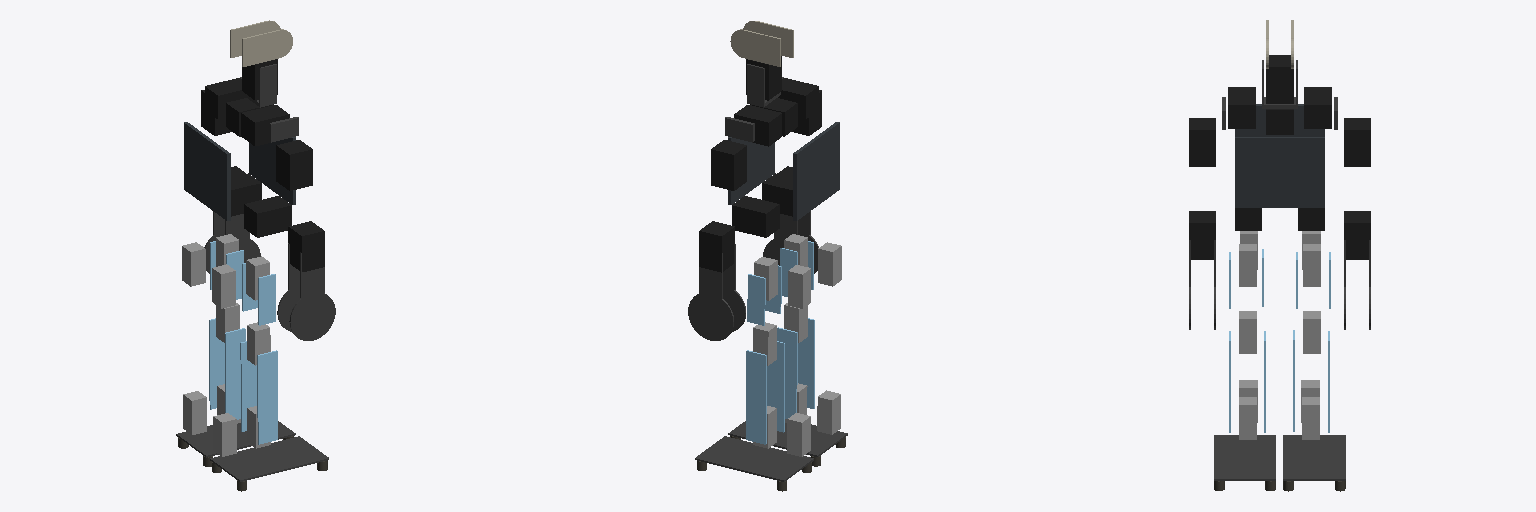
--- Facts derived from the render (not from the file) ---
3 views of the same robot in one strip: view 1: azimuth 30°, elevation 25°; view 2: azimuth 150°, elevation 25°; view 3: azimuth 270°, elevation 25° (orthographic).
Model onshape with 26 links and 25 joints (20 revolute, 5 fixed), rooted at torso, posed all joints at 0.
Links seen in each view (by area): view 1: torso, radius_v2, right_foot_asm, tibia_right_full, head__field_of_view_false, tibia_left_full, thigh_horn_right, mx106_with_u_l_2, right_humerus, mx106_with_u_r, mx106_with_u_r_2, thigh_horn_left (+6 smaller); view 2: torso, radius_v2_2, left_foot_asm, tibia_left_full, head__field_of_view_false, tibia_right_full, thigh_horn_left, mx106_with_u_r, left_humerus, mx106_with_u_l_2, mx106_with_u_l, thigh_horn_right (+5 smaller); view 3: torso, left_foot_asm, right_foot_asm, radius_v2, radius_v2_2, head__field_of_view_false, right_humerus, left_humerus, mx106_with_u_l, mx106_with_u_r_2, mx106_with_u_r, mx106_with_u_l_2 (+2 smaller).
Link boxes in pixels (x1=…): torso: x1=184, y1=78, x2=295, y2=237; radius_v2: x1=277, y1=221, x2=335, y2=340; right_foot_asm: x1=210, y1=436, x2=328, y2=491; tibia_right_full: x1=240, y1=341, x2=277, y2=444; head__field_of_view_false: x1=230, y1=20, x2=292, y2=100; tibia_left_full: x1=209, y1=318, x2=245, y2=419; thigh_horn_right: x1=242, y1=263, x2=275, y2=365; mx106_with_u_l_2: x1=212, y1=256, x2=269, y2=308; right_humerus: x1=276, y1=140, x2=312, y2=190; mx106_with_u_r: x1=182, y1=234, x2=238, y2=286; mx106_with_u_r_2: x1=213, y1=406, x2=270, y2=456; thigh_horn_left: x1=210, y1=241, x2=243, y2=342; torso: x1=728, y1=78, x2=839, y2=237; radius_v2_2: x1=688, y1=221, x2=745, y2=340; left_foot_asm: x1=695, y1=436, x2=813, y2=491; tibia_left_full: x1=746, y1=341, x2=784, y2=444; head__field_of_view_false: x1=730, y1=21, x2=793, y2=100; tibia_right_full: x1=777, y1=318, x2=814, y2=418; thigh_horn_left: x1=747, y1=265, x2=781, y2=365; mx106_with_u_r: x1=754, y1=257, x2=810, y2=308; left_humerus: x1=711, y1=140, x2=746, y2=190; mx106_with_u_l_2: x1=784, y1=234, x2=841, y2=286; mx106_with_u_l: x1=753, y1=406, x2=810, y2=456; thigh_horn_right: x1=780, y1=241, x2=813, y2=342; torso: x1=1228, y1=87, x2=1331, y2=230; left_foot_asm: x1=1283, y1=435, x2=1345, y2=491; right_foot_asm: x1=1214, y1=435, x2=1275, y2=490; radius_v2: x1=1189, y1=211, x2=1215, y2=329; radius_v2_2: x1=1344, y1=211, x2=1370, y2=329; head__field_of_view_false: x1=1266, y1=20, x2=1293, y2=103; right_humerus: x1=1189, y1=118, x2=1215, y2=166; left_humerus: x1=1344, y1=118, x2=1370, y2=166; mx106_with_u_l: x1=1301, y1=380, x2=1319, y2=439; mx106_with_u_r_2: x1=1239, y1=380, x2=1257, y2=439; mx106_with_u_r: x1=1302, y1=231, x2=1320, y2=286; mx106_with_u_l_2: x1=1239, y1=231, x2=1257, y2=286.
Size in the robot's own frame: 0.1688 by 0.27 by 0.7197 metres.
Geometry: primitives only (box / cylinder / sphere), no mesh files.

robot.urdf — onshape:
<robot name="onshape">
<link name="torso">
<!-- Shapes for x_plate -->
<collision>
<origin xyz="0.057869 3.81527e-15 0.0595" rpy="1.5708 -3.71254e-15 1.5708" />
<geometry>
<box size="0.133 0.113 0.006" />
</geometry>
</collision>
<!-- Shapes for x_plate -->
<visual>
<origin xyz="0.057869 3.81527e-15 0.0595" rpy="1.5708 -3.71254e-15 1.5708" />
<geometry>
<box size="0.133 0.113 0.006" />
</geometry>
<material name="x_plate_material">
<color rgba="0.262745 0.282353 0.301961 1.0"/>
</material>
</visual>
<!-- Shapes for mx-64at_ar -->
<collision>
<origin xyz="0.023419 -0.0464 -0.017" rpy="-3.14159 2.03946e-15 -1.5708" />
<geometry>
<box size="0.0402 0.0611 0.041" />
</geometry>
</collision>
<!-- Shapes for mx-64at_ar -->
<visual>
<origin xyz="0.023419 -0.0464 -0.017" rpy="-3.14159 2.03946e-15 -1.5708" />
<geometry>
<box size="0.0402 0.0611 0.041" />
</geometry>
<material name="mx-64at_ar_material">
<color rgba="0.168627 0.168627 0.168627 1.0"/>
</material>
</visual>
<!-- Shapes for mx-64at_ar -->
<collision>
<origin xyz="0.013319 0.056 0.143" rpy="-1.5708 -1.5708 0" />
<geometry>
<box size="0.0402 0.0611 0.041" />
</geometry>
</collision>
<!-- Shapes for mx-64at_ar -->
<visual>
<origin xyz="0.013319 0.056 0.143" rpy="-1.5708 -1.5708 0" />
<geometry>
<box size="0.0402 0.0611 0.041" />
</geometry>
<material name="mx-64at_ar_material">
<color rgba="0.168627 0.168627 0.168627 1.0"/>
</material>
</visual>
<!-- Shapes for x_plate -->
<collision>
<origin xyz="-0.057131 7.78087e-15 0.0595" rpy="1.5708 -1.21571e-15 1.5708" />
<geometry>
<box size="0.133 0.113 0.006" />
</geometry>
</collision>
<!-- Shapes for x_plate -->
<visual>
<origin xyz="-0.057131 7.78087e-15 0.0595" rpy="1.5708 -1.21571e-15 1.5708" />
<geometry>
<box size="0.133 0.113 0.006" />
</geometry>
<material name="x_plate_material">
<color rgba="0.262745 0.282353 0.301961 1.0"/>
</material>
</visual>
<!-- Shapes for mx-64at_ar -->
<collision>
<origin xyz="0.023419 0.0464 -0.017" rpy="-3.14159 2.02561e-15 -1.5708" />
<geometry>
<box size="0.0402 0.0611 0.041" />
</geometry>
</collision>
<!-- Shapes for mx-64at_ar -->
<visual>
<origin xyz="0.023419 0.0464 -0.017" rpy="-3.14159 2.02561e-15 -1.5708" />
<geometry>
<box size="0.0402 0.0611 0.041" />
</geometry>
<material name="mx-64at_ar_material">
<color rgba="0.168627 0.168627 0.168627 1.0"/>
</material>
</visual>
<!-- Shapes for mx-64at_ar -->
<collision>
<origin xyz="0.018319 5.20694e-15 0.136" rpy="4.02456e-16 1.06347e-14 -1.5708" />
<geometry>
<box size="0.0402 0.0611 0.041" />
</geometry>
</collision>
<!-- Shapes for mx-64at_ar -->
<visual>
<origin xyz="0.018319 5.20694e-15 0.136" rpy="4.02456e-16 1.06347e-14 -1.5708" />
<geometry>
<box size="0.0402 0.0611 0.041" />
</geometry>
<material name="mx-64at_ar_material">
<color rgba="0.168627 0.168627 0.168627 1.0"/>
</material>
</visual>
<!-- Shapes for mx-64at_ar -->
<collision>
<origin xyz="0.013319 -0.056 0.143" rpy="1.5708 1.5708 0" />
<geometry>
<box size="0.0402 0.0611 0.041" />
</geometry>
</collision>
<!-- Shapes for mx-64at_ar -->
<visual>
<origin xyz="0.013319 -0.056 0.143" rpy="1.5708 1.5708 0" />
<geometry>
<box size="0.0402 0.0611 0.041" />
</geometry>
<material name="mx-64at_ar_material">
<color rgba="0.168627 0.168627 0.168627 1.0"/>
</material>
</visual>
<inertial>
<origin xyz="-0.00999148 0.0067075 0.0847028" rpy="0 0 0"/>
<mass value="1.74256" />
<inertia ixx="0.0256992" ixy="0.00212058"  ixz="0.00444597" iyy="0.0280135" iyz="-0.00204502" izz="0.0103838" />
</inertial>
</link>

<link name="head_base">
<inertial>
<origin xyz="0 0 0" rpy="0 0 0" />
<mass value="1e-9" />
<inertia ixx="0" ixy="0" ixz="0" iyy="0" iyz="0" izz="0" />
</inertial>
</link>
<joint name="head_base_frame" type="fixed">
<origin xyz="0.035869 2.87859e-15 0.1595" rpy="3.79641e-14 -9.95037e-15 -1.04223e-13" />
<parent link="torso" />
<child link="head_base" />
<axis xyz="0 0 0"/>
</joint>

<link name="trunk">
<inertial>
<origin xyz="0 0 0" rpy="0 0 0" />
<mass value="1e-9" />
<inertia ixx="0" ixy="0" ixz="0" iyy="0" iyz="0" izz="0" />
</inertial>
</link>
<joint name="trunk_frame" type="fixed">
<origin xyz="0.00586803 -3.58583e-15 -0.1015" rpy="-2.22624e-15 4.13778e-27 -1.14065e-13" />
<parent link="torso" />
<child link="trunk" />
<axis xyz="0 0 0"/>
</joint>

<link name="u_shoulder">
<!-- Shapes for u_base_64 -->
<collision>
<origin xyz="-2.13528e-33 -3.58215e-33 -0.003125" rpy="-1.13995e-30 1.27353e-30 1.29422e-30" />
<geometry>
<box size="0.049 0.03 0.00625" />
</geometry>
</collision>
<!-- Shapes for u_base_64 -->
<visual>
<origin xyz="-2.13528e-33 -3.58215e-33 -0.003125" rpy="-1.13995e-30 1.27353e-30 1.29422e-30" />
<geometry>
<box size="0.049 0.03 0.00625" />
</geometry>
<material name="u_base_64_material">
<color rgba="0.301961 0.301961 0.301961 1.0"/>
</material>
</visual>
<inertial>
<origin xyz="-1.42778e-15 -0.00566234 -0.0159676" rpy="0 0 0"/>
<mass value="0.0570101" />
<inertia ixx="2.21758e-05" ixy="-2.10263e-19"  ixz="9.28639e-19" iyy="4.03314e-05" iyz="-6.10703e-06" izz="3.58629e-05" />
</inertial>
</link>

<link name="right_humerus">
<!-- Shapes for mx-64at_ar -->
<collision>
<origin xyz="1.54658e-17 -0.01755 -0.0235" rpy="-8.07063e-16 -5.18375e-30 -4.64906e-16" />
<geometry>
<box size="0.0402 0.0611 0.041" />
</geometry>
</collision>
<!-- Shapes for mx-64at_ar -->
<visual>
<origin xyz="1.54658e-17 -0.01755 -0.0235" rpy="-8.07063e-16 -5.18375e-30 -4.64906e-16" />
<geometry>
<box size="0.0402 0.0611 0.041" />
</geometry>
<material name="mx-64at_ar_material">
<color rgba="0.168627 0.168627 0.168627 1.0"/>
</material>
</visual>
<inertial>
<origin xyz="-0.0219502 0.0714677 -0.0108756" rpy="0 0 0"/>
<mass value="0.111948" />
<inertia ixx="0.0132959" ixy="0.00182099"  ixz="0.000176202" iyy="0.000422449" iyz="-0.00129199" izz="0.0134217" />
</inertial>
</link>

<link name="radius_v2">
<!-- Shapes for hand -->
<collision>
<origin xyz="-2.76384e-17 0.1276 0.042" rpy="3.14159 4.25254e-16 1.5708" />
<geometry>
<cylinder length="0.003" radius="0.04" />
</geometry>
</collision>
<collision>
<origin xyz="-1.12905e-17 0.0539756 0.042" rpy="3.14159 4.25254e-16 1.5708" />
<geometry>
<box size="0.0775512 0.0412 0.003" />
</geometry>
</collision>
<!-- Shapes for hand -->
<visual>
<origin xyz="-2.76384e-17 0.1276 0.042" rpy="3.14159 4.25254e-16 1.5708" />
<geometry>
<cylinder length="0.003" radius="0.04" />
</geometry>
<material name="hand_material">
<color rgba="0.301961 0.301961 0.301961 1.0"/>
</material>
</visual>
<visual>
<origin xyz="-1.12905e-17 0.0539756 0.042" rpy="3.14159 4.25254e-16 1.5708" />
<geometry>
<box size="0.0775512 0.0412 0.003" />
</geometry>
<material name="hand_material">
<color rgba="0.301961 0.301961 0.301961 1.0"/>
</material>
</visual>
<!-- Shapes for hand -->
<collision>
<origin xyz="-1.24846e-16 0.1276 0.005" rpy="3.14159 4.25254e-16 1.5708" />
<geometry>
<cylinder length="0.003" radius="0.04" />
</geometry>
</collision>
<collision>
<origin xyz="-1.28933e-16 0.0539756 0.005" rpy="3.14159 4.25254e-16 1.5708" />
<geometry>
<box size="0.0775512 0.0412 0.003" />
</geometry>
</collision>
<!-- Shapes for hand -->
<visual>
<origin xyz="-1.24846e-16 0.1276 0.005" rpy="3.14159 4.25254e-16 1.5708" />
<geometry>
<cylinder length="0.003" radius="0.04" />
</geometry>
<material name="hand_material">
<color rgba="0.301961 0.301961 0.301961 1.0"/>
</material>
</visual>
<visual>
<origin xyz="-1.28933e-16 0.0539756 0.005" rpy="3.14159 4.25254e-16 1.5708" />
<geometry>
<box size="0.0775512 0.0412 0.003" />
</geometry>
<material name="hand_material">
<color rgba="0.301961 0.301961 0.301961 1.0"/>
</material>
</visual>
<!-- Shapes for mx-64at_ar -->
<collision>
<origin xyz="-2.92266e-18 0.01755 0.0235" rpy="3.14159 -1.27021e-30 5.55112e-17" />
<geometry>
<box size="0.0402 0.0611 0.041" />
</geometry>
</collision>
<!-- Shapes for mx-64at_ar -->
<visual>
<origin xyz="-2.92266e-18 0.01755 0.0235" rpy="3.14159 -1.27021e-30 5.55112e-17" />
<geometry>
<box size="0.0402 0.0611 0.041" />
</geometry>
<material name="mx-64at_ar_material">
<color rgba="0.168627 0.168627 0.168627 1.0"/>
</material>
</visual>
<inertial>
<origin xyz="-0.0615379 -0.10265 0.0219354" rpy="0 0 0"/>
<mass value="0.120619" />
<inertia ixx="0.0207428" ixy="-0.00638349"  ixz="-2.1871e-05" iyy="0.00208063" iyz="-7.96366e-05" izz="0.022758" />
</inertial>
</link>

<joint name="right_elbow" type="revolute">
<origin xyz="-0.0235 -0.142 -0.0025" rpy="3.14159 -1.5708 0" />
<parent link="right_humerus" />
<child link="radius_v2" />
<axis xyz="0 0 1"/>
<limit effort="10" velocity="6" lower="-2.79253" upper="-0"/>
<joint_properties friction="0.0"/>
</joint>

<joint name="right_shoulder_roll" type="revolute">
<origin xyz="-0.0235 -0.03 -0.035" rpy="-3.58863e-16 -1.5708 0" />
<parent link="u_shoulder" />
<child link="right_humerus" />
<axis xyz="0 0 1"/>
<limit effort="10" velocity="6" lower="-1.5708" upper="0.0872665"/>
<joint_properties friction="0.0"/>
</joint>

<joint name="right_shoulder_pitch" type="revolute">
<origin xyz="0.030869 -0.0795 0.143" rpy="1.5708 -1.84019e-14 3.14159" />
<parent link="torso" />
<child link="u_shoulder" />
<axis xyz="0 0 1"/>
<limit effort="10" velocity="6" lower="-2.18166" upper="2.18166"/>
<joint_properties friction="0.0"/>
</joint>

<link name="u_shoulder_2">
<!-- Shapes for u_base_64 -->
<collision>
<origin xyz="-4.32799e-34 1.44897e-33 0.003125" rpy="3.14159 1.38496e-31 3.69779e-31" />
<geometry>
<box size="0.049 0.03 0.00625" />
</geometry>
</collision>
<!-- Shapes for u_base_64 -->
<visual>
<origin xyz="-4.32799e-34 1.44897e-33 0.003125" rpy="3.14159 1.38496e-31 3.69779e-31" />
<geometry>
<box size="0.049 0.03 0.00625" />
</geometry>
<material name="u_base_64_material">
<color rgba="0.301961 0.301961 0.301961 1.0"/>
</material>
</visual>
<inertial>
<origin xyz="-5.66222e-16 0.00566234 0.0159676" rpy="0 0 0"/>
<mass value="0.0570101" />
<inertia ixx="2.21758e-05" ixy="1.13873e-19"  ixz="3.1237e-19" iyy="4.03314e-05" iyz="-6.10703e-06" izz="3.58629e-05" />
</inertial>
</link>

<link name="left_humerus">
<!-- Shapes for mx-64at_ar -->
<collision>
<origin xyz="6.81954e-18 -0.01755 -0.0235" rpy="6.15036e-16 1.39816e-29 1.05471e-15" />
<geometry>
<box size="0.0402 0.0611 0.041" />
</geometry>
</collision>
<!-- Shapes for mx-64at_ar -->
<visual>
<origin xyz="6.81954e-18 -0.01755 -0.0235" rpy="6.15036e-16 1.39816e-29 1.05471e-15" />
<geometry>
<box size="0.0402 0.0611 0.041" />
</geometry>
<material name="mx-64at_ar_material">
<color rgba="0.168627 0.168627 0.168627 1.0"/>
</material>
</visual>
<inertial>
<origin xyz="-0.0663577 0.040272 -0.0134765" rpy="0 0 0"/>
<mass value="0.111948" />
<inertia ixx="0.00896033" ixy="0.00398528"  ixz="0.00041087" iyy="0.00197497" iyz="-0.000899791" izz="0.0107095" />
</inertial>
</link>

<link name="radius_v2_2">
<!-- Shapes for mx-64at_ar -->
<collision>
<origin xyz="-3.89688e-18 -0.01755 -0.0235" rpy="-7.99013e-17 1.14505e-16 1.11022e-16" />
<geometry>
<box size="0.0402 0.0611 0.041" />
</geometry>
</collision>
<!-- Shapes for mx-64at_ar -->
<visual>
<origin xyz="-3.89688e-18 -0.01755 -0.0235" rpy="-7.99013e-17 1.14505e-16 1.11022e-16" />
<geometry>
<box size="0.0402 0.0611 0.041" />
</geometry>
<material name="mx-64at_ar_material">
<color rgba="0.168627 0.168627 0.168627 1.0"/>
</material>
</visual>
<!-- Shapes for hand -->
<collision>
<origin xyz="2.08452e-16 -0.1276 -0.005" rpy="-3.51984e-16 -7.99013e-17 -1.5708" />
<geometry>
<cylinder length="0.003" radius="0.04" />
</geometry>
</collision>
<collision>
<origin xyz="2.248e-16 -0.0539756 -0.005" rpy="-3.51984e-16 -7.99013e-17 -1.5708" />
<geometry>
<box size="0.0775512 0.0412 0.003" />
</geometry>
</collision>
<!-- Shapes for hand -->
<visual>
<origin xyz="2.08452e-16 -0.1276 -0.005" rpy="-3.51984e-16 -7.99013e-17 -1.5708" />
<geometry>
<cylinder length="0.003" radius="0.04" />
</geometry>
<material name="hand_material">
<color rgba="0.301961 0.301961 0.301961 1.0"/>
</material>
</visual>
<visual>
<origin xyz="2.248e-16 -0.0539756 -0.005" rpy="-3.51984e-16 -7.99013e-17 -1.5708" />
<geometry>
<box size="0.0775512 0.0412 0.003" />
</geometry>
<material name="hand_material">
<color rgba="0.301961 0.301961 0.301961 1.0"/>
</material>
</visual>
<!-- Shapes for hand -->
<collision>
<origin xyz="-2.91138e-16 -0.1276 -0.042" rpy="-1.42185e-16 -7.99013e-17 -1.5708" />
<geometry>
<cylinder length="0.003" radius="0.04" />
</geometry>
</collision>
<collision>
<origin xyz="-2.87051e-16 -0.0539756 -0.042" rpy="-1.42185e-16 -7.99013e-17 -1.5708" />
<geometry>
<box size="0.0775512 0.0412 0.003" />
</geometry>
</collision>
<!-- Shapes for hand -->
<visual>
<origin xyz="-2.91138e-16 -0.1276 -0.042" rpy="-1.42185e-16 -7.99013e-17 -1.5708" />
<geometry>
<cylinder length="0.003" radius="0.04" />
</geometry>
<material name="hand_material">
<color rgba="0.301961 0.301961 0.301961 1.0"/>
</material>
</visual>
<visual>
<origin xyz="-2.87051e-16 -0.0539756 -0.042" rpy="-1.42185e-16 -7.99013e-17 -1.5708" />
<geometry>
<box size="0.0775512 0.0412 0.003" />
</geometry>
<material name="hand_material">
<color rgba="0.301961 0.301961 0.301961 1.0"/>
</material>
</visual>
<inertial>
<origin xyz="0.0776041 0.104341 -0.0531645" rpy="0 0 0"/>
<mass value="0.120619" />
<inertia ixx="0.021585" ixy="-0.00811906"  ixz="0.00124466" iyy="0.0037442" iyz="0.00318708" izz="0.0242843" />
</inertial>
</link>

<joint name="left_elbow" type="revolute">
<origin xyz="0.0235 -0.142 -0.0025" rpy="1.63031e-15 1.5708 0" />
<parent link="left_humerus" />
<child link="radius_v2_2" />
<axis xyz="0 0 1"/>
<limit effort="10" velocity="6" lower="-2.79253" upper="0"/>
<joint_properties friction="0.0"/>
</joint>

<joint name="left_shoulder_roll" type="revolute">
<origin xyz="0.0235 0.03 0.035" rpy="-3.14159 -1.5708 0" />
<parent link="u_shoulder_2" />
<child link="left_humerus" />
<axis xyz="0 0 1"/>
<limit effort="10" velocity="6" lower="-0.0872665" upper="1.5708"/>
<joint_properties friction="0.0"/>
</joint>

<joint name="left_shoulder_pitch" type="revolute">
<origin xyz="0.030869 0.0795 0.143" rpy="-1.5708 -7.21645e-15 2.48831e-15" />
<parent link="torso" />
<child link="u_shoulder_2" />
<axis xyz="0 0 1"/>
<limit effort="10" velocity="6" lower="-2.18166" upper="2.18166"/>
<joint_properties friction="0.0"/>
</joint>

<link name="u_hip_with_saver">
<inertial>
<origin xyz="-6.06621e-11 0.00126178 -0.0329138" rpy="0 0 0"/>
<mass value="0.136031" />
<inertia ixx="0.000121591" ixy="4.65787e-14"  ixz="1.94175e-13" iyy="7.55159e-05" iyz="7.1306e-07" izz="5.66884e-05" />
</inertial>
</link>

<link name="mx106_with_u_r">
<!-- Shapes for inner -->
<collision>
<origin xyz="-0.01515 -0.00015 -0.0799438" rpy="-3.14159 2.16493e-15 1.5708" />
<geometry>
<box size="0.027 0.058 0.026" />
</geometry>
</collision>
<!-- Shapes for inner -->
<visual>
<origin xyz="-0.01515 -0.00015 -0.0799438" rpy="-3.14159 2.16493e-15 1.5708" />
<geometry>
<box size="0.027 0.058 0.026" />
</geometry>
<material name="inner_material">
<color rgba="0.647059 0.647059 0.647059 1.0"/>
</material>
</visual>
<!-- Shapes for inner -->
<collision>
<origin xyz="-0.01515 -0.0005 -0.02025" rpy="-1.5708 -1.5708 0" />
<geometry>
<box size="0.027 0.058 0.026" />
</geometry>
</collision>
<!-- Shapes for inner -->
<visual>
<origin xyz="-0.01515 -0.0005 -0.02025" rpy="-1.5708 -1.5708 0" />
<geometry>
<box size="0.027 0.058 0.026" />
</geometry>
<material name="inner_material">
<color rgba="0.647059 0.647059 0.647059 1.0"/>
</material>
</visual>
<inertial>
<origin xyz="-0.016034 -0.00248551 -0.0424236" rpy="0 0 0"/>
<mass value="0.136461" />
<inertia ixx="0.000126539" ixy="1.4013e-06"  ixz="-7.33812e-06" iyy="0.000158864" iyz="7.54591e-06" izz="8.16062e-05" />
</inertial>
</link>

<link name="thigh_horn_left">
<!-- Shapes for thigh_free_left -->
<collision>
<origin xyz="-1.15245e-16 0.04 -0.0054" rpy="3.14159 -1.37092e-29 -5.71942e-19" />
<geometry>
<box size="0.03 0.08 0.003" />
</geometry>
</collision>
<!-- Shapes for thigh_free_left -->
<visual>
<origin xyz="-1.15245e-16 0.04 -0.0054" rpy="3.14159 -1.37092e-29 -5.71942e-19" />
<geometry>
<box size="0.03 0.08 0.003" />
</geometry>
<material name="thigh_free_left_material">
<color rgba="0.615686 0.811765 0.929412 1.0"/>
</material>
</visual>
<!-- Shapes for thigh_horn -->
<collision>
<origin xyz="1.75621e-16 0.04 0.0436" rpy="3.14159 -1.39398e-29 -5.74647e-19" />
<geometry>
<box size="0.03 0.08 0.003" />
</geometry>
</collision>
<!-- Shapes for thigh_horn -->
<visual>
<origin xyz="1.75621e-16 0.04 0.0436" rpy="3.14159 -1.39398e-29 -5.74647e-19" />
<geometry>
<box size="0.03 0.08 0.003" />
</geometry>
<material name="thigh_horn_material">
<color rgba="0.615686 0.811765 0.929412 1.0"/>
</material>
</visual>
<!-- Shapes for inner -->
<collision>
<origin xyz="0.00015 0.12485 0.0165" rpy="-3.14159 2.0529e-15 -3.14159" />
<geometry>
<box size="0.027 0.058 0.026" />
</geometry>
</collision>
<!-- Shapes for inner -->
<visual>
<origin xyz="0.00015 0.12485 0.0165" rpy="-3.14159 2.0529e-15 -3.14159" />
<geometry>
<box size="0.027 0.058 0.026" />
</geometry>
<material name="inner_material">
<color rgba="0.647059 0.647059 0.647059 1.0"/>
</material>
</visual>
<inertial>
<origin xyz="-9.36074e-05 0.0868627 0.0156903" rpy="0 0 0"/>
<mass value="0.0845547" />
<inertia ixx="0.000327329" ixy="2.3833e-08"  ixz="-1.25073e-09" iyy="3.62057e-05" iyz="-4.5674e-05" izz="0.000305877" />
</inertial>
</link>

<link name="tibia_left_full">
<!-- Shapes for tibia_horn_side -->
<collision>
<origin xyz="-0.065 1.52525e-14 0.0435" rpy="-1.249e-14 1.99003e-14 -5.7303e-14" />
<geometry>
<box size="0.15 0.035 0.003" />
</geometry>
</collision>
<!-- Shapes for tibia_horn_side -->
<visual>
<origin xyz="-0.065 1.52525e-14 0.0435" rpy="-1.249e-14 1.99003e-14 -5.7303e-14" />
<geometry>
<box size="0.15 0.035 0.003" />
</geometry>
<material name="tibia_horn_side_material">
<color rgba="0.615686 0.811765 0.929412 1.0"/>
</material>
</visual>
<!-- Shapes for tibia_left -->
<collision>
<origin xyz="-0.065 -0.0025 -0.0085" rpy="9.56646e-30 -1.52821e-30 -1.07717e-18" />
<geometry>
<box size="0.15 0.035 0.003" />
</geometry>
</collision>
<!-- Shapes for tibia_left -->
<visual>
<origin xyz="-0.065 -0.0025 -0.0085" rpy="9.56646e-30 -1.52821e-30 -1.07717e-18" />
<geometry>
<box size="0.15 0.035 0.003" />
</geometry>
<material name="tibia_left_material">
<color rgba="0.615686 0.811765 0.929412 1.0"/>
</material>
</visual>
<inertial>
<origin xyz="-0.07 1.75919e-13 0.00139217" rpy="0 0 0"/>
<mass value="0.0501468" />
<inertia ixx="1.6277e-05" ixy="1.474e-17"  ixz="-1.29865e-13" iyy="0.000261996" iyz="-3.38442e-16" izz="0.000248145" />
</inertial>
</link>

<link name="mx106_with_u_l">
<!-- Shapes for inner -->
<collision>
<origin xyz="0.01515 -0.0598438 0.01585" rpy="1.5708 -1.5708 0" />
<geometry>
<box size="0.027 0.058 0.026" />
</geometry>
</collision>
<!-- Shapes for inner -->
<visual>
<origin xyz="0.01515 -0.0598438 0.01585" rpy="1.5708 -1.5708 0" />
<geometry>
<box size="0.027 0.058 0.026" />
</geometry>
<material name="inner_material">
<color rgba="0.647059 0.647059 0.647059 1.0"/>
</material>
</visual>
<!-- Shapes for inner -->
<collision>
<origin xyz="0.01515 0.00015 0.0165" rpy="-3.14159 3.27516e-15 -1.5708" />
<geometry>
<box size="0.027 0.058 0.026" />
</geometry>
</collision>
<!-- Shapes for inner -->
<visual>
<origin xyz="0.01515 0.00015 0.0165" rpy="-3.14159 3.27516e-15 -1.5708" />
<geometry>
<box size="0.027 0.058 0.026" />
</geometry>
<material name="inner_material">
<color rgba="0.647059 0.647059 0.647059 1.0"/>
</material>
</visual>
<inertial>
<origin xyz="0.016034 -0.0223173 0.0184793" rpy="0 0 0"/>
<mass value="0.136461" />
<inertia ixx="0.000126581" ixy="7.32947e-06"  ixz="1.40995e-06" iyy="8.16104e-05" iyz="-7.57616e-06" izz="0.000158902" />
</inertial>
</link>

<link name="left_foot_asm">
<!-- Shapes for cleat -->
<collision>
<origin xyz="0.052 -0.0325 -0.07563" rpy="-1.5708 -1.13409 -1.5708" />
<geometry>
<cylinder length="0.016" radius="0.008" />
</geometry>
</collision>
<!-- Shapes for cleat -->
<visual>
<origin xyz="0.052 -0.0325 -0.07563" rpy="-1.5708 -1.13409 -1.5708" />
<geometry>
<cylinder length="0.016" radius="0.008" />
</geometry>
<material name="cleat_material">
<color rgba="0.301961 0.290196 0.262745 1.0"/>
</material>
</visual>
<!-- Shapes for cleat -->
<collision>
<origin xyz="0.052 0.0435 0.06597" rpy="-1.5708 -1.13468 -1.5708" />
<geometry>
<cylinder length="0.016" radius="0.008" />
</geometry>
</collision>
<!-- Shapes for cleat -->
<visual>
<origin xyz="0.052 0.0435 0.06597" rpy="-1.5708 -1.13468 -1.5708" />
<geometry>
<cylinder length="0.016" radius="0.008" />
</geometry>
<material name="cleat_material">
<color rgba="0.301961 0.290196 0.262745 1.0"/>
</material>
</visual>
<!-- Shapes for cleat -->
<collision>
<origin xyz="0.052 -0.0325 0.06597" rpy="-1.5708 -1.13409 -1.5708" />
<geometry>
<cylinder length="0.016" radius="0.008" />
</geometry>
</collision>
<!-- Shapes for cleat -->
<visual>
<origin xyz="0.052 -0.0325 0.06597" rpy="-1.5708 -1.13409 -1.5708" />
<geometry>
<cylinder length="0.016" radius="0.008" />
</geometry>
<material name="cleat_material">
<color rgba="0.301961 0.290196 0.262745 1.0"/>
</material>
</visual>
<!-- Shapes for cleat -->
<collision>
<origin xyz="0.052 0.0435 -0.07563" rpy="-1.5708 -1.13409 -1.5708" />
<geometry>
<cylinder length="0.016" radius="0.008" />
</geometry>
</collision>
<!-- Shapes for cleat -->
<visual>
<origin xyz="0.052 0.0435 -0.07563" rpy="-1.5708 -1.13409 -1.5708" />
<geometry>
<cylinder length="0.016" radius="0.008" />
</geometry>
<material name="cleat_material">
<color rgba="0.301961 0.290196 0.262745 1.0"/>
</material>
</visual>
<!-- Shapes for foot_plate -->
<collision>
<origin xyz="0.0415 0.0055 -0.00483" rpy="-1.5708 -8.96762e-20 1.5708" />
<geometry>
<box size="0.092 0.1576 0.003" />
</geometry>
</collision>
<!-- Shapes for foot_plate -->
<visual>
<origin xyz="0.0415 0.0055 -0.00483" rpy="-1.5708 -8.96762e-20 1.5708" />
<geometry>
<box size="0.092 0.1576 0.003" />
</geometry>
<material name="foot_plate_material">
<color rgba="0.301961 0.301961 0.301961 1.0"/>
</material>
</visual>
<inertial>
<origin xyz="0.0312589 0.00414298 0.000817452" rpy="0 0 0"/>
<mass value="0.32139" />
<inertia ixx="0.00102249" ixy="-8.69674e-06"  ixz="-2.18857e-05" iyy="0.0008644" iyz="-1.04075e-05" izz="0.000326573" />
</inertial>
</link>

<link name="left_foot">
<inertial>
<origin xyz="0 0 0" rpy="0 0 0" />
<mass value="1e-9" />
<inertia ixx="0" ixy="0" ixz="0" iyy="0" iyz="0" izz="0" />
</inertial>
</link>
<joint name="left_foot_frame" type="fixed">
<origin xyz="0.06 6.45317e-16 -0.02033" rpy="8.38389e-16 -1.5708 0" />
<parent link="left_foot_asm" />
<child link="left_foot" />
<axis xyz="0 0 0"/>
</joint>

<joint name="left_ankle_roll" type="revolute">
<origin xyz="-2.22045e-16 0.0201 0.016" rpy="1.5708 7.53536e-19 3.14159" />
<parent link="mx106_with_u_l" />
<child link="left_foot_asm" />
<axis xyz="0 0 1"/>
<limit effort="10" velocity="6" lower="-0.785398" upper="0.785398"/>
<joint_properties friction="0.0"/>
</joint>

<joint name="left_ankle_pitch" type="revolute">
<origin xyz="-0.14 9.46118e-15 4.71151e-15" rpy="-2.63106e-14 -1.45196e-14 -1.5669e-13" />
<parent link="tibia_left_full" />
<child link="mx106_with_u_l" />
<axis xyz="0 0 1"/>
<limit effort="10" velocity="6" lower="-1.5708" upper="1.5708"/>
<joint_properties friction="0.0"/>
</joint>

<joint name="left_knee" type="revolute">
<origin xyz="-7.5287e-16 0.14 -0.001" rpy="1.92498e-15 1.2611e-14 -1.5708" />
<parent link="thigh_horn_left" />
<child link="tibia_left_full" />
<axis xyz="0 0 1"/>
<limit effort="10" velocity="6" lower="0." upper="3.14159"/>
<joint_properties friction="0.0"/>
</joint>

<joint name="left_hip_pitch" type="revolute">
<origin xyz="1.38778e-16 0.016 -0.0201" rpy="1.5708 -1.56511 -9.4895e-13" />
<parent link="mx106_with_u_r" />
<child link="thigh_horn_left" />
<axis xyz="0 0 1"/>
<limit effort="10" velocity="6" lower="-1.5708" upper="1.5708"/>
<joint_properties friction="0.0"/>
</joint>

<joint name="left_hip_roll" type="revolute">
<origin xyz="-1.11022e-16 -0.0200991 -0.0604" rpy="1.5708 -1.5708 0" />
<parent link="u_hip_with_saver" />
<child link="mx106_with_u_r" />
<axis xyz="0 0 1"/>
<limit effort="10" velocity="6" lower="-0.523599" upper="0.523599"/>
<joint_properties friction="0.0"/>
</joint>

<joint name="left_hip_yaw" type="revolute">
<origin xyz="0.00586897 0.0464 -0.0411" rpy="1.43162e-16 -2.2295e-14 1.5708" />
<parent link="torso" />
<child link="u_hip_with_saver" />
<axis xyz="0 0 1"/>
<limit effort="10" velocity="6" lower="-1.0472" upper="1.0472"/>
<joint_properties friction="0.0"/>
</joint>

<link name="u_hip_with_saver_2">
<inertial>
<origin xyz="-6.0662e-11 0.00126178 -0.0329138" rpy="0 0 0"/>
<mass value="0.136031" />
<inertia ixx="0.000121591" ixy="4.65788e-14"  ixz="1.94175e-13" iyy="7.55159e-05" iyz="7.1306e-07" izz="5.66884e-05" />
</inertial>
</link>

<link name="mx106_with_u_l_2">
<!-- Shapes for inner -->
<collision>
<origin xyz="-0.0149141 0.0005 -0.01995" rpy="1.5708 1.5708 0" />
<geometry>
<box size="0.027 0.058 0.026" />
</geometry>
</collision>
<!-- Shapes for inner -->
<visual>
<origin xyz="-0.0149141 0.0005 -0.01995" rpy="1.5708 1.5708 0" />
<geometry>
<box size="0.027 0.058 0.026" />
</geometry>
<material name="inner_material">
<color rgba="0.647059 0.647059 0.647059 1.0"/>
</material>
</visual>
<!-- Shapes for inner -->
<collision>
<origin xyz="-0.0149141 -0.00015 -0.0799437" rpy="3.14159 -6.10623e-16 1.5708" />
<geometry>
<box size="0.027 0.058 0.026" />
</geometry>
</collision>
<!-- Shapes for inner -->
<visual>
<origin xyz="-0.0149141 -0.00015 -0.0799437" rpy="3.14159 -6.10623e-16 1.5708" />
<geometry>
<box size="0.027 0.058 0.026" />
</geometry>
<material name="inner_material">
<color rgba="0.647059 0.647059 0.647059 1.0"/>
</material>
</visual>
<inertial>
<origin xyz="-0.0157981 0.00247927 -0.0424173" rpy="0 0 0"/>
<mass value="0.136461" />
<inertia ixx="0.000126581" ixy="-1.40995e-06"  ixz="-7.32947e-06" iyy="0.000158902" iyz="-7.57616e-06" izz="8.16104e-05" />
</inertial>
</link>

<link name="thigh_horn_right">
<!-- Shapes for thigh_horn -->
<collision>
<origin xyz="2.15499e-16 0.04 -0.0434" rpy="3.14159 5.55112e-17 2.01916e-16" />
<geometry>
<box size="0.03 0.08 0.003" />
</geometry>
</collision>
<!-- Shapes for thigh_horn -->
<visual>
<origin xyz="2.15499e-16 0.04 -0.0434" rpy="3.14159 5.55112e-17 2.01916e-16" />
<geometry>
<box size="0.03 0.08 0.003" />
</geometry>
<material name="thigh_horn_material">
<color rgba="0.615686 0.811765 0.929412 1.0"/>
</material>
</visual>
<!-- Shapes for inner -->
<collision>
<origin xyz="-0.00015 0.12485 -0.0165" rpy="2.3019e-16 -1.11022e-16 6.46001e-16" />
<geometry>
<box size="0.027 0.058 0.026" />
</geometry>
</collision>
<!-- Shapes for inner -->
<visual>
<origin xyz="-0.00015 0.12485 -0.0165" rpy="2.3019e-16 -1.11022e-16 6.46001e-16" />
<geometry>
<box size="0.027 0.058 0.026" />
</geometry>
<material name="inner_material">
<color rgba="0.647059 0.647059 0.647059 1.0"/>
</material>
</visual>
<!-- Shapes for thigh_free_right -->
<collision>
<origin xyz="-6.15994e-17 0.036 0.0054" rpy="-8.53145e-16 1.04637e-29 -1.04003e-18" />
<geometry>
<box size="0.03 0.08 0.003" />
</geometry>
</collision>
<!-- Shapes for thigh_free_right -->
<visual>
<origin xyz="-6.15994e-17 0.036 0.0054" rpy="-8.53145e-16 1.04637e-29 -1.04003e-18" />
<geometry>
<box size="0.03 0.08 0.003" />
</geometry>
<material name="thigh_free_right_material">
<color rgba="0.615686 0.811765 0.929412 1.0"/>
</material>
</visual>
<inertial>
<origin xyz="-0.000103673 0.0868627 -0.0156903" rpy="0 0 0"/>
<mass value="0.0845547" />
<inertia ixx="0.000327329" ixy="4.67647e-08"  ixz="-6.41747e-09" iyy="3.62056e-05" iyz="4.5674e-05" izz="0.000305876" />
</inertial>
</link>

<link name="tibia_right_full">
<!-- Shapes for tibia_right -->
<collision>
<origin xyz="-0.065 0.0005 0.0085" rpy="3.14159 4.34305e-31 -7.29719e-19" />
<geometry>
<box size="0.15 0.035 0.003" />
</geometry>
</collision>
<!-- Shapes for tibia_right -->
<visual>
<origin xyz="-0.065 0.0005 0.0085" rpy="3.14159 4.34305e-31 -7.29719e-19" />
<geometry>
<box size="0.15 0.035 0.003" />
</geometry>
<material name="tibia_right_material">
<color rgba="0.615686 0.811765 0.929412 1.0"/>
</material>
</visual>
<!-- Shapes for tibia_horn_side -->
<collision>
<origin xyz="-0.065 1.05036e-14 -0.0435" rpy="4.89053e-14 -1.70336e-13 3.06391e-14" />
<geometry>
<box size="0.15 0.035 0.003" />
</geometry>
</collision>
<!-- Shapes for tibia_horn_side -->
<visual>
<origin xyz="-0.065 1.05036e-14 -0.0435" rpy="4.89053e-14 -1.70336e-13 3.06391e-14" />
<geometry>
<box size="0.15 0.035 0.003" />
</geometry>
<material name="tibia_horn_side_material">
<color rgba="0.615686 0.811765 0.929412 1.0"/>
</material>
</visual>
<inertial>
<origin xyz="-0.07 -1.76056e-13 -0.00139217" rpy="0 0 0"/>
<mass value="0.0501468" />
<inertia ixx="1.6277e-05" ixy="-2.49887e-17"  ixz="1.29958e-13" iyy="0.000261996" iyz="-3.33217e-16" izz="0.000248145" />
</inertial>
</link>

<link name="mx106_with_u_r_2">
<!-- Shapes for inner -->
<collision>
<origin xyz="0.01515 -0.00015 -0.0165" rpy="6.89553e-17 -9.4369e-16 1.5708" />
<geometry>
<box size="0.027 0.058 0.026" />
</geometry>
</collision>
<!-- Shapes for inner -->
<visual>
<origin xyz="0.01515 -0.00015 -0.0165" rpy="6.89553e-17 -9.4369e-16 1.5708" />
<geometry>
<box size="0.027 0.058 0.026" />
</geometry>
<material name="inner_material">
<color rgba="0.647059 0.647059 0.647059 1.0"/>
</material>
</visual>
<!-- Shapes for inner -->
<collision>
<origin xyz="0.01515 -0.0598438 -0.01615" rpy="1.5708 -1.5708 0" />
<geometry>
<box size="0.027 0.058 0.026" />
</geometry>
</collision>
<!-- Shapes for inner -->
<visual>
<origin xyz="0.01515 -0.0598438 -0.01615" rpy="1.5708 -1.5708 0" />
<geometry>
<box size="0.027 0.058 0.026" />
</geometry>
<material name="inner_material">
<color rgba="0.647059 0.647059 0.647059 1.0"/>
</material>
</visual>
<inertial>
<origin xyz="0.016034 -0.0223236 -0.0184855" rpy="0 0 0"/>
<mass value="0.136461" />
<inertia ixx="0.000126539" ixy="7.33812e-06"  ixz="-1.4013e-06" iyy="8.16062e-05" iyz="7.54591e-06" izz="0.000158864" />
</inertial>
</link>

<link name="right_foot_asm">
<!-- Shapes for cleat -->
<collision>
<origin xyz="0.052 -0.0435 -0.07563" rpy="1.5708 0.653869 1.5708" />
<geometry>
<cylinder length="0.016" radius="0.008" />
</geometry>
</collision>
<!-- Shapes for cleat -->
<visual>
<origin xyz="0.052 -0.0435 -0.07563" rpy="1.5708 0.653869 1.5708" />
<geometry>
<cylinder length="0.016" radius="0.008" />
</geometry>
<material name="cleat_material">
<color rgba="0.301961 0.290196 0.262745 1.0"/>
</material>
</visual>
<!-- Shapes for cleat -->
<collision>
<origin xyz="0.052 -0.0435 0.06597" rpy="-1.5708 -1.27175 -1.5708" />
<geometry>
<cylinder length="0.016" radius="0.008" />
</geometry>
</collision>
<!-- Shapes for cleat -->
<visual>
<origin xyz="0.052 -0.0435 0.06597" rpy="-1.5708 -1.27175 -1.5708" />
<geometry>
<cylinder length="0.016" radius="0.008" />
</geometry>
<material name="cleat_material">
<color rgba="0.301961 0.290196 0.262745 1.0"/>
</material>
</visual>
<!-- Shapes for cleat -->
<collision>
<origin xyz="0.052 0.0325 -0.07563" rpy="1.5708 0.653869 1.5708" />
<geometry>
<cylinder length="0.016" radius="0.008" />
</geometry>
</collision>
<!-- Shapes for cleat -->
<visual>
<origin xyz="0.052 0.0325 -0.07563" rpy="1.5708 0.653869 1.5708" />
<geometry>
<cylinder length="0.016" radius="0.008" />
</geometry>
<material name="cleat_material">
<color rgba="0.301961 0.290196 0.262745 1.0"/>
</material>
</visual>
<!-- Shapes for cleat -->
<collision>
<origin xyz="0.052 0.0325 0.06597" rpy="1.5708 0.653869 1.5708" />
<geometry>
<cylinder length="0.016" radius="0.008" />
</geometry>
</collision>
<!-- Shapes for cleat -->
<visual>
<origin xyz="0.052 0.0325 0.06597" rpy="1.5708 0.653869 1.5708" />
<geometry>
<cylinder length="0.016" radius="0.008" />
</geometry>
<material name="cleat_material">
<color rgba="0.301961 0.290196 0.262745 1.0"/>
</material>
</visual>
<!-- Shapes for foot_plate -->
<collision>
<origin xyz="0.0415 -0.0055 -0.00483" rpy="-1.5708 2.8968e-19 1.5708" />
<geometry>
<box size="0.092 0.1576 0.003" />
</geometry>
</collision>
<!-- Shapes for foot_plate -->
<visual>
<origin xyz="0.0415 -0.0055 -0.00483" rpy="-1.5708 2.8968e-19 1.5708" />
<geometry>
<box size="0.092 0.1576 0.003" />
</geometry>
<material name="foot_plate_material">
<color rgba="0.301961 0.301961 0.301961 1.0"/>
</material>
</visual>
<inertial>
<origin xyz="0.0312589 -0.00414302 0.000817452" rpy="0 0 0"/>
<mass value="0.32139" />
<inertia ixx="0.00102249" ixy="8.69712e-06"  ixz="-2.18857e-05" iyy="0.0008644" iyz="1.04066e-05" izz="0.000326572" />
</inertial>
</link>

<link name="right_foot">
<inertial>
<origin xyz="0 0 0" rpy="0 0 0" />
<mass value="1e-9" />
<inertia ixx="0" ixy="0" ixz="0" iyy="0" iyz="0" izz="0" />
</inertial>
</link>
<joint name="right_foot_frame" type="fixed">
<origin xyz="0.06 1.02696e-15 -0.02033" rpy="4.64969e-19 -1.5708 0" />
<parent link="right_foot_asm" />
<child link="right_foot" />
<axis xyz="0 0 0"/>
</joint>

<joint name="right_ankle_roll" type="revolute">
<origin xyz="-2.22045e-16 0.0201 -0.016" rpy="1.5708 4.64969e-19 -3.14159" />
<parent link="mx106_with_u_r_2" />
<child link="right_foot_asm" />
<axis xyz="0 0 1"/>
<limit effort="10" velocity="6" lower="-0.785398" upper="0.785398"/>
<joint_properties friction="0.0"/>
</joint>

<joint name="right_ankle_pitch" type="revolute">
<origin xyz="-0.14 -1.56732e-14 5.03798e-14" rpy="-4.4409e-16 -4.49305e-15 1.11963e-13" />
<parent link="tibia_right_full" />
<child link="mx106_with_u_r_2" />
<axis xyz="0 0 1"/>
<limit effort="10" velocity="6" lower="-1.5708" upper="1.5708"/>
<joint_properties friction="0.0"/>
</joint>

<joint name="right_knee" type="revolute">
<origin xyz="-3.81639e-17 0.14 -2.05357e-14" rpy="-1.24994e-15 -5.32933e-16 -1.5708" />
<parent link="thigh_horn_right" />
<child link="tibia_right_full" />
<axis xyz="0 0 1"/>
<limit effort="10" velocity="6" lower="0." upper="3.14159"/>
<joint_properties friction="0.0"/>
</joint>

<joint name="right_hip_pitch" type="revolute">
<origin xyz="0.000235943 -0.016 -0.0201" rpy="1.5708 -1.56511 -2.92366e-13" />
<parent link="mx106_with_u_l_2" />
<child link="thigh_horn_right" />
<axis xyz="0 0 1"/>
<limit effort="10" velocity="6" lower="-1.5708" upper="1.5708"/>
<joint_properties friction="0.0"/>
</joint>

<joint name="right_hip_roll" type="revolute">
<origin xyz="6.245e-17 -0.0200991 -0.0604" rpy="1.5708 -1.5708 0" />
<parent link="u_hip_with_saver_2" />
<child link="mx106_with_u_l_2" />
<axis xyz="0 0 1"/>
<limit effort="10" velocity="6" lower="-0.523599" upper="0.523599"/>
<joint_properties friction="0.0"/>
</joint>

<joint name="right_hip_yaw" type="revolute">
<origin xyz="0.00586897 -0.0464 -0.0411" rpy="1.22835e-15 -2.11957e-15 1.5708" />
<parent link="torso" />
<child link="u_hip_with_saver_2" />
<axis xyz="0 0 1"/>
<limit effort="10" velocity="6" lower="-1.0472" upper="1.0472"/>
<joint_properties friction="0.0"/>
</joint>

<link name="u_neck">
<!-- Shapes for u_base_64 -->
<collision>
<origin xyz="5.24496e-34 -1.92593e-35 0.003125" rpy="3.14159 1.57269e-31 1.0424e-30" />
<geometry>
<box size="0.049 0.03 0.00625" />
</geometry>
</collision>
<!-- Shapes for u_base_64 -->
<visual>
<origin xyz="5.24496e-34 -1.92593e-35 0.003125" rpy="3.14159 1.57269e-31 1.0424e-30" />
<geometry>
<box size="0.049 0.03 0.00625" />
</geometry>
<material name="u_base_64_material">
<color rgba="0.301961 0.301961 0.301961 1.0"/>
</material>
</visual>
<!-- Shapes for u_side_neck -->
<collision>
<origin xyz="0.025 -3.04572e-15 0.032901" rpy="1.5708 -1.36551e-14 -1.5708" />
<geometry>
<box size="0.03 0.065802 0.003" />
</geometry>
</collision>
<!-- Shapes for u_side_neck -->
<visual>
<origin xyz="0.025 -3.04572e-15 0.032901" rpy="1.5708 -1.36551e-14 -1.5708" />
<geometry>
<box size="0.03 0.065802 0.003" />
</geometry>
<material name="u_side_neck_material">
<color rgba="0.301961 0.301961 0.301961 1.0"/>
</material>
</visual>
<!-- Shapes for u_side_neck -->
<collision>
<origin xyz="-0.025 2.111e-15 0.032901" rpy="1.5708 1.47653e-14 1.5708" />
<geometry>
<box size="0.03 0.065802 0.003" />
</geometry>
</collision>
<!-- Shapes for u_side_neck -->
<visual>
<origin xyz="-0.025 2.111e-15 0.032901" rpy="1.5708 1.47653e-14 1.5708" />
<geometry>
<box size="0.03 0.065802 0.003" />
</geometry>
<material name="u_side_neck_material">
<color rgba="0.301961 0.301961 0.301961 1.0"/>
</material>
</visual>
<inertial>
<origin xyz="-6.22838e-17 -2.25985e-16 0.0206334" rpy="0 0 0"/>
<mass value="0.0544799" />
<inertia ixx="3.05787e-05" ixy="-1.35944e-11"  ixz="-1.74859e-19" iyy="5.16952e-05" iyz="4.29472e-20" izz="2.98525e-05" />
</inertial>
</link>

<link name="head__field_of_view_false">
<!-- Shapes for mx-64at_ar -->
<collision>
<origin xyz="2.01086e-16 -0.01755 -0.0235" rpy="-3.09954e-16 1.24585e-15 1.34226e-14" />
<geometry>
<box size="0.0402 0.0611 0.041" />
</geometry>
</collision>
<!-- Shapes for mx-64at_ar -->
<visual>
<origin xyz="2.01086e-16 -0.01755 -0.0235" rpy="-3.09954e-16 1.24585e-15 1.34226e-14" />
<geometry>
<box size="0.0402 0.0611 0.041" />
</geometry>
<material name="mx-64at_ar_material">
<color rgba="0.168627 0.168627 0.168627 1.0"/>
</material>
</visual>
<!-- Shapes for head_plate -->
<collision>
<origin xyz="-0.0238 0.0365 -0.042" rpy="3.14159 -7.46249e-16 -3.14159" />
<geometry>
<cylinder length="0.003" radius="0.0235" />
</geometry>
</collision>
<collision>
<origin xyz="0.01 0.0365 -0.042" rpy="3.14159 -7.46249e-16 -3.14159" />
<geometry>
<box size="0.0616 0.047 0.003" />
</geometry>
</collision>
<!-- Shapes for head_plate -->
<visual>
<origin xyz="-0.0238 0.0365 -0.042" rpy="3.14159 -7.46249e-16 -3.14159" />
<geometry>
<cylinder length="0.003" radius="0.0235" />
</geometry>
<material name="head_plate_material">
<color rgba="0.701961 0.682353 0.623529 1.0"/>
</material>
</visual>
<visual>
<origin xyz="0.01 0.0365 -0.042" rpy="3.14159 -7.46249e-16 -3.14159" />
<geometry>
<box size="0.0616 0.047 0.003" />
</geometry>
<material name="head_plate_material">
<color rgba="0.701961 0.682353 0.623529 1.0"/>
</material>
</visual>
<!-- Shapes for head_plate -->
<collision>
<origin xyz="-0.0238 0.0365 -0.005" rpy="-3.14159 -8.57271e-16 -3.14159" />
<geometry>
<cylinder length="0.003" radius="0.0235" />
</geometry>
</collision>
<collision>
<origin xyz="0.01 0.0365 -0.005" rpy="-3.14159 -8.57271e-16 -3.14159" />
<geometry>
<box size="0.0616 0.047 0.003" />
</geometry>
</collision>
<!-- Shapes for head_plate -->
<visual>
<origin xyz="-0.0238 0.0365 -0.005" rpy="-3.14159 -8.57271e-16 -3.14159" />
<geometry>
<cylinder length="0.003" radius="0.0235" />
</geometry>
<material name="head_plate_material">
<color rgba="0.701961 0.682353 0.623529 1.0"/>
</material>
</visual>
<visual>
<origin xyz="0.01 0.0365 -0.005" rpy="-3.14159 -8.57271e-16 -3.14159" />
<geometry>
<box size="0.0616 0.047 0.003" />
</geometry>
<material name="head_plate_material">
<color rgba="0.701961 0.682353 0.623529 1.0"/>
</material>
</visual>
<inertial>
<origin xyz="0.0180026 0.128543 -0.0843703" rpy="0 0 0"/>
<mass value="0.120438" />
<inertia ixx="0.00740784" ixy="-0.00108575"  ixz="0.000667157" iyy="0.00228607" iyz="0.00327733" izz="0.00563245" />
</inertial>
</link>

<link name="camera">
<inertial>
<origin xyz="0 0 0" rpy="0 0 0" />
<mass value="1e-9" />
<inertia ixx="0" ixy="0" ixz="0" iyy="0" iyz="0" izz="0" />
</inertial>
</link>
<joint name="camera_frame" type="fixed">
<origin xyz="-0.024933 0.0335 -0.0235" rpy="3.14159 1.5708 0" />
<parent link="head__field_of_view_false" />
<child link="camera" />
<axis xyz="0 0 0"/>
</joint>

<joint name="head_pitch" type="revolute">
<origin xyz="-0.0235 1.67921e-15 0.058302" rpy="1.5708 -5.26755e-18 -1.5708" />
<parent link="u_neck" />
<child link="head__field_of_view_false" />
<axis xyz="0 0 1"/>
<limit effort="10" velocity="6" lower="-0.785398" upper="1.5708"/>
<joint_properties friction="0.0"/>
</joint>

<joint name="head_yaw" type="revolute">
<origin xyz="0.035869 4.36359e-15 0.1595" rpy="3.46945e-16 2.84444e-15 -1.5708" />
<parent link="torso" />
<child link="u_neck" />
<axis xyz="0 0 1"/>
<limit effort="10" velocity="6" lower="-2.0944" upper="2.0944"/>
<joint_properties friction="0.0"/>
</joint>


</robot>
